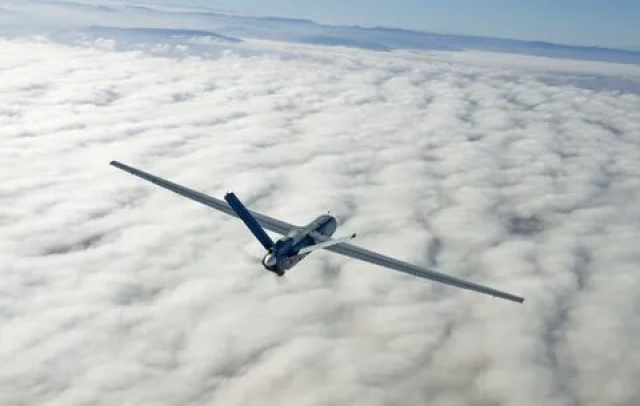military drone: (108, 160, 524, 304)
